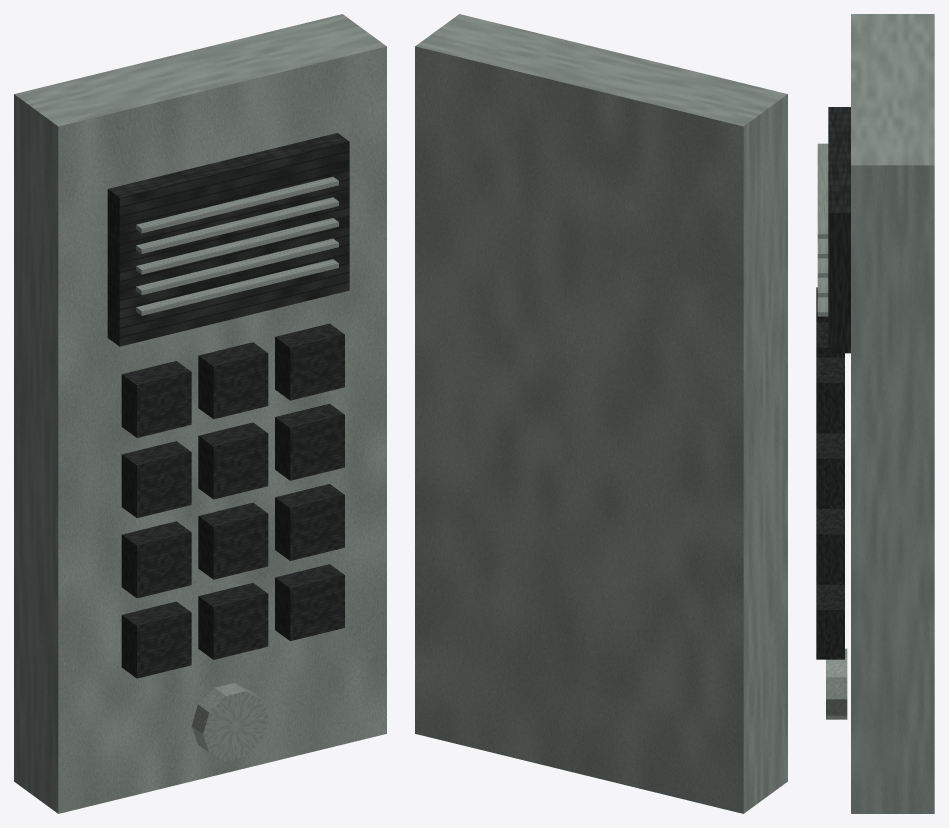
The model's file is CIS_Intercom.obj.
The picture shows the model from 3 angles, left to right: view 1: azimuth 30°, elevation 25°; view 2: azimuth 150°, elevation 25°; view 3: azimuth 270°, elevation 25°; orthographic projection. The views are drawn at different scales.
Parts seen in each view (by area): view 1: CIS_Intercom; view 2: CIS_Intercom; view 3: CIS_Intercom.
Boxes of the visible parts, left/top/right/bottom form: CIS_Intercom: left=14, top=14, right=386, bottom=813; CIS_Intercom: left=415, top=14, right=787, bottom=813; CIS_Intercom: left=816, top=14, right=934, bottom=813.
Size of the model in its own units: 0.15 by 0.3 by 0.0495.
2 materials, 2 textured.
